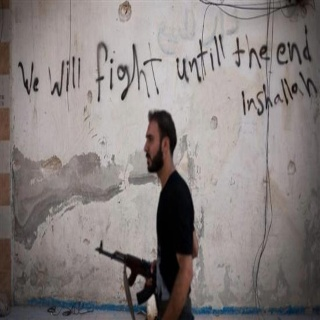rifle: (95, 238, 165, 308)
